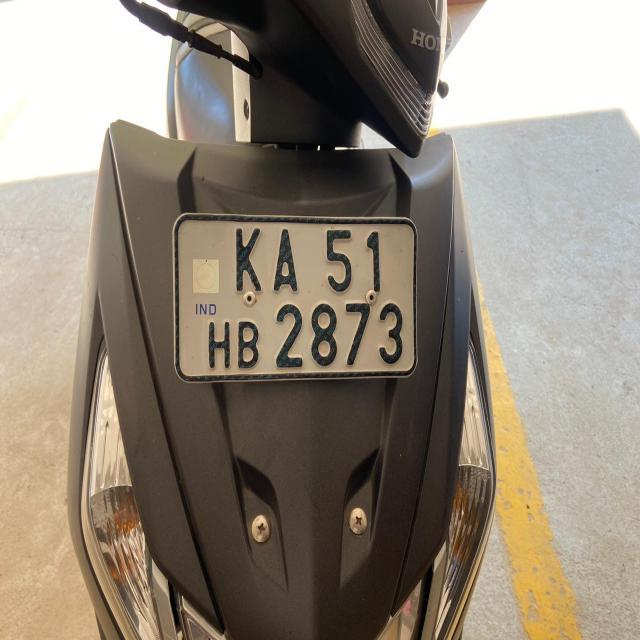1: (365, 226, 390, 301)
3: (378, 303, 410, 364)
5: (317, 220, 357, 292)
7: (338, 298, 374, 372)
8: (307, 298, 342, 368)
A: (270, 217, 304, 300)
B: (234, 318, 268, 376)
H: (198, 314, 238, 374)
K: (232, 219, 267, 304)
